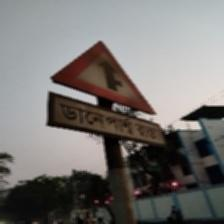Side-road-right: (47, 40, 162, 148)
